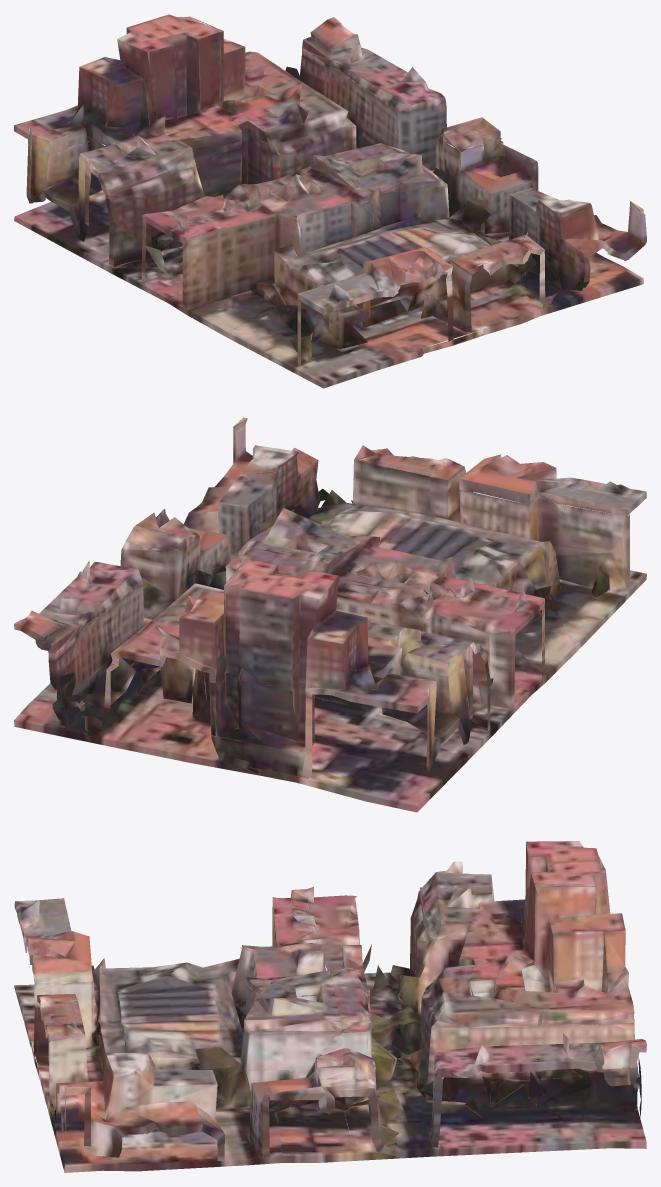
3 views of the same model, one above another, from view 1: azimuth 30°, elevation 25°; view 2: azimuth 150°, elevation 25°; view 3: azimuth 270°, elevation 25° (orthographic). The views are drawn at different scales.
Parts seen in each view (by area): view 1: Mesh_0; view 2: Mesh_0; view 3: Mesh_0.
Boxes of the visible parts, box(x1,y1,x2,y2) form: Mesh_0: box(14, 14, 646, 388); Mesh_0: box(14, 417, 646, 812); Mesh_0: box(14, 841, 646, 1172).
Size of the model in its own units: 134 by 53.85 by 165.
Materials: 1 (1 with a texture image).
